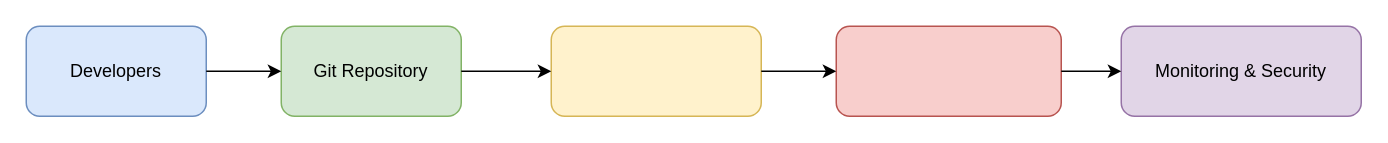
The diagram is 1388 pixels wide and 143 high, and some of its shapes have lost their labels. Here are the shapes that lost their labels. From the top down, the centre of each, then its label:
the point at 655,70: CI/CD Pipeline
the point at 948,70: Kubernetes Cluster
